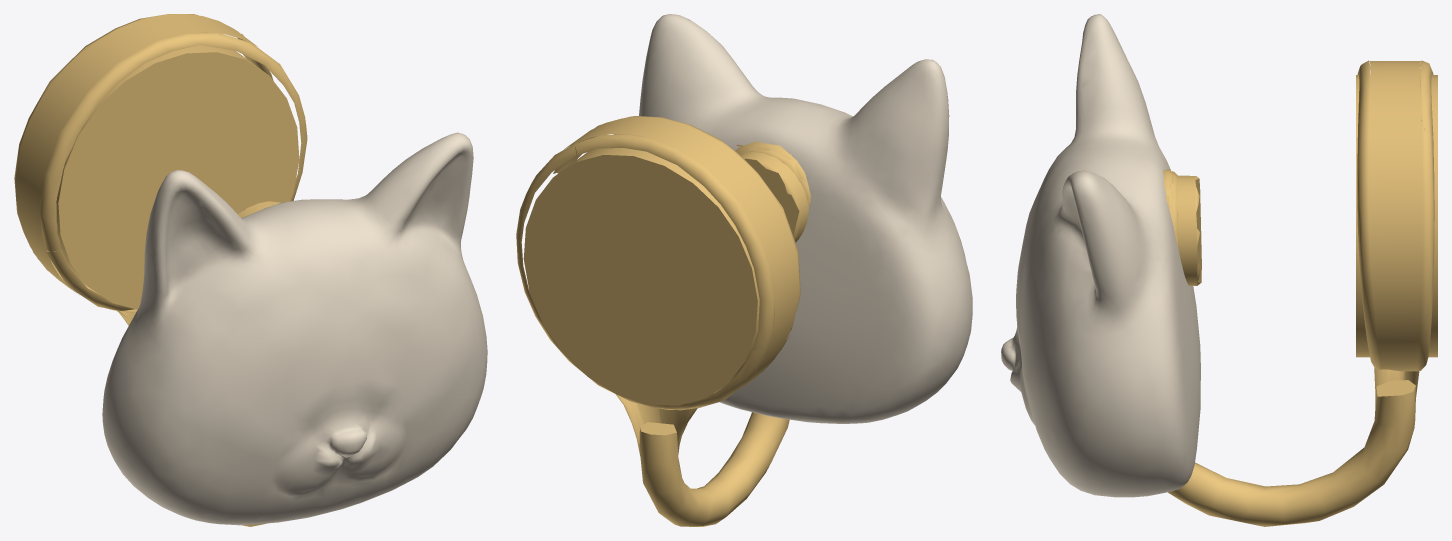
Rendered from cat6-preview.glb.
3 renders of one model, left to right at view 1: azimuth 30°, elevation 25°; view 2: azimuth 150°, elevation 25°; view 3: azimuth 270°, elevation 25°, orthographic. The views are drawn at different scales.
Visible parts, largest first — view 1: enamel, hardware; view 2: hardware, enamel; view 3: enamel, hardware.
Part boxes in pixels (x1,y1,x2,y2): enamel: [102, 132, 487, 525]; hardware: [14, 14, 307, 526]; hardware: [516, 116, 810, 526]; enamel: [639, 14, 972, 423]; enamel: [1001, 14, 1200, 497]; hardware: [1163, 60, 1437, 526].
Size of the model in its own units: 0.0103 by 0.0121 by 0.0107.
